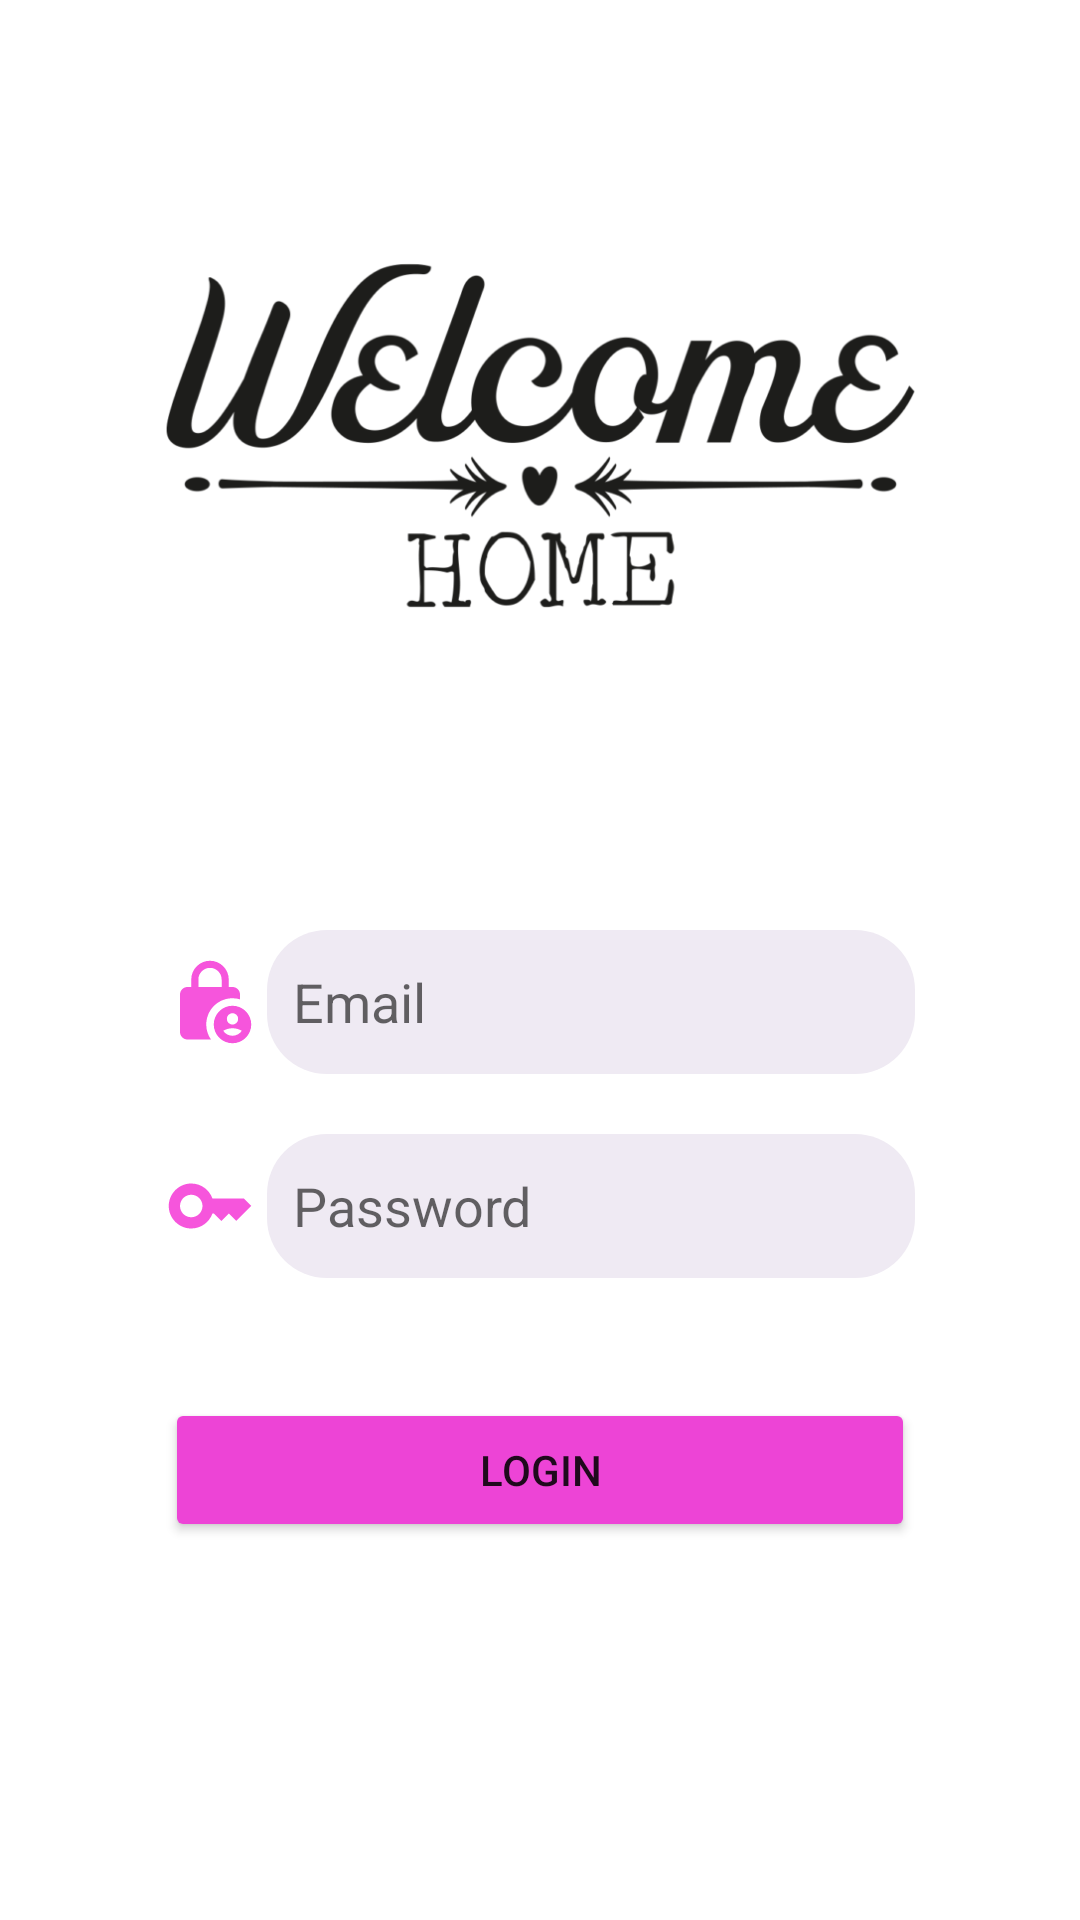

Named icons in this screenshot (1080 × 1920) and their bounding boxes, (x1=x1, y1=y1, x2=x2, y2=y2):
key: (x1=168, y1=1183, x2=251, y2=1229)
lock person: (x1=180, y1=960, x2=252, y2=1044)
